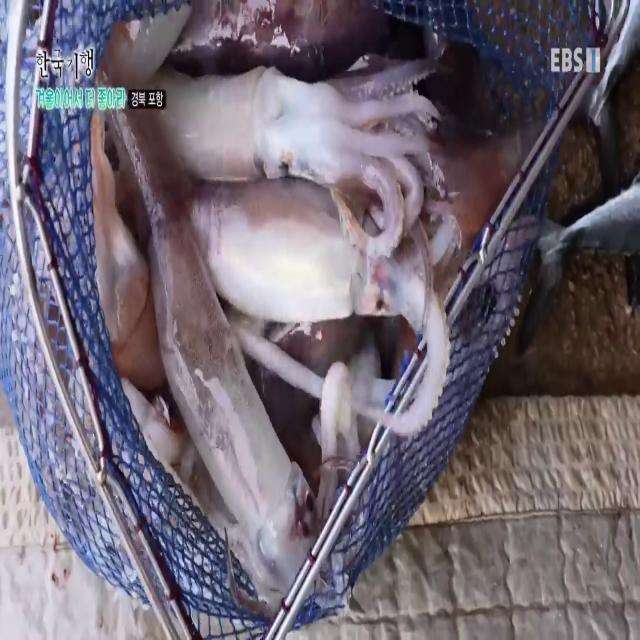squid: (96, 64, 322, 617), (172, 175, 460, 433), (148, 56, 448, 262)
